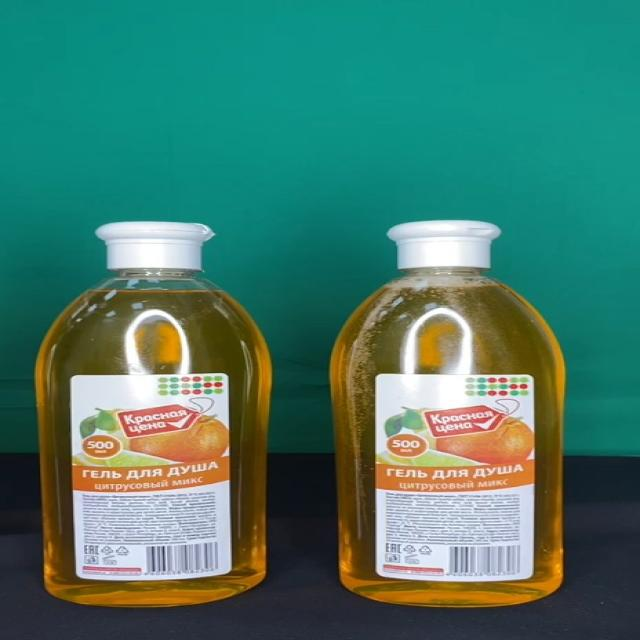Bottle: (34, 221, 272, 607), (329, 219, 564, 606)
Cap: (96, 222, 216, 270), (388, 220, 503, 268)
